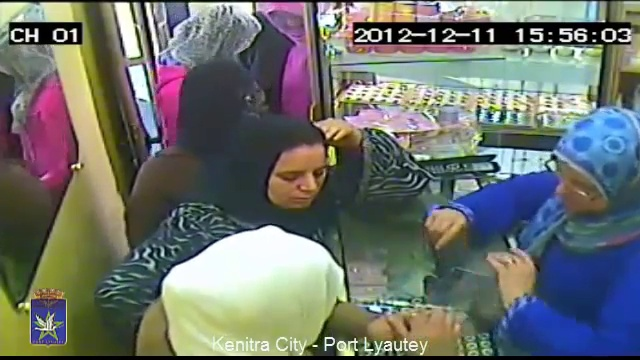face: (554, 151, 621, 220), (262, 155, 331, 210)
